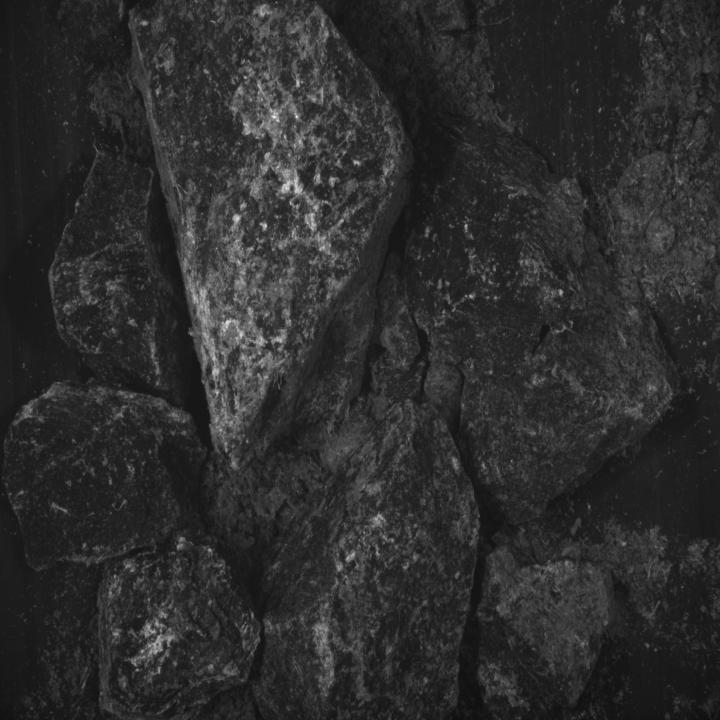stone: (127, 0, 414, 472), (401, 111, 679, 525), (248, 398, 480, 720), (2, 376, 206, 570), (50, 149, 193, 409), (96, 532, 262, 720), (476, 543, 615, 720), (292, 349, 432, 471), (369, 251, 420, 389), (608, 151, 693, 228), (372, 348, 429, 422), (424, 360, 464, 439), (646, 218, 674, 253)
